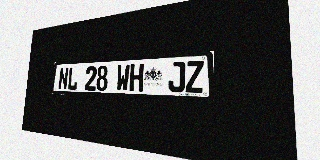2: (85, 66, 97, 91)
8: (96, 65, 109, 91)
H: (129, 64, 144, 92)
J: (168, 61, 185, 93)
L: (67, 67, 79, 90)
N: (58, 67, 69, 90)
W: (116, 64, 130, 91)
Z: (186, 60, 204, 93)
